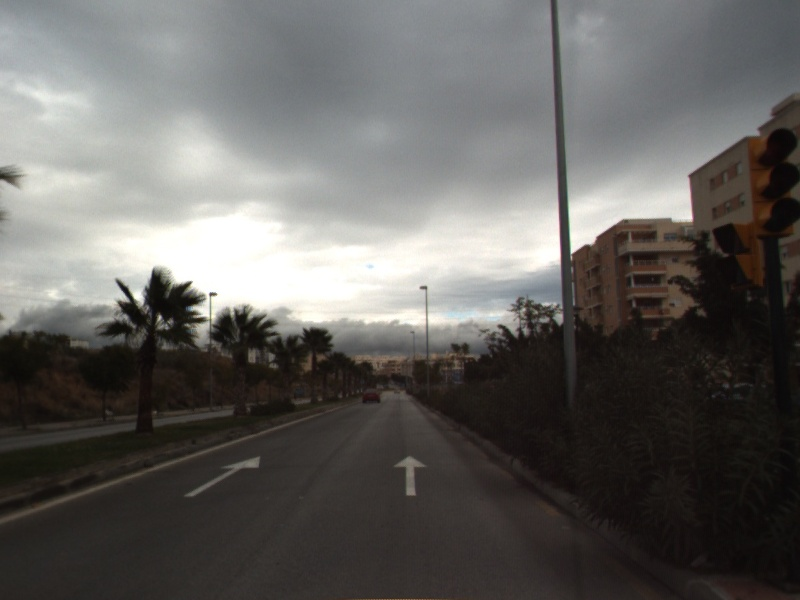STRAIGHT: (182, 454, 262, 499), (391, 454, 429, 497)
